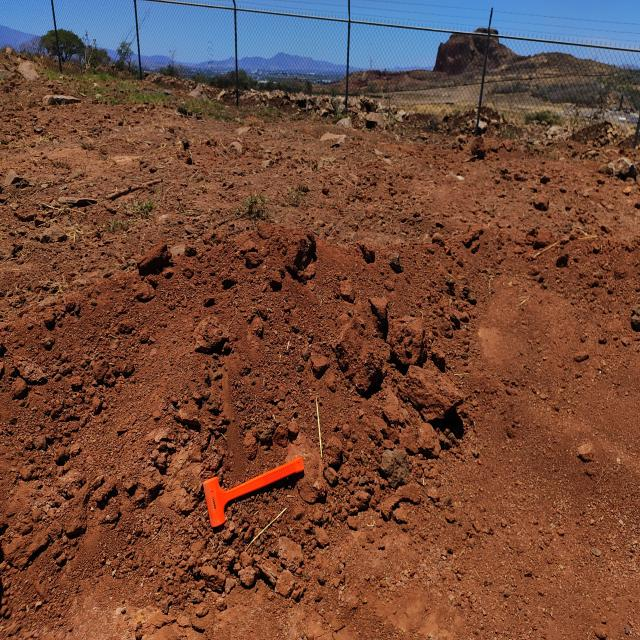Orange_hammer: (202, 454, 304, 528)
